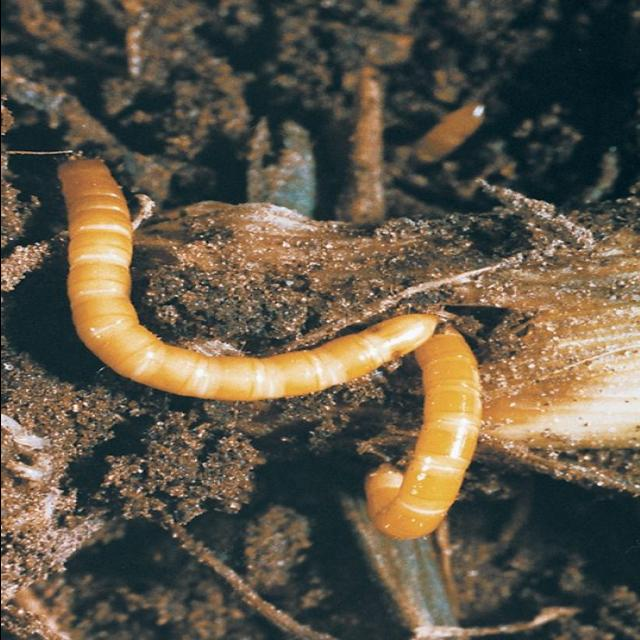wireworm: (47, 140, 443, 398), (363, 308, 485, 556)
